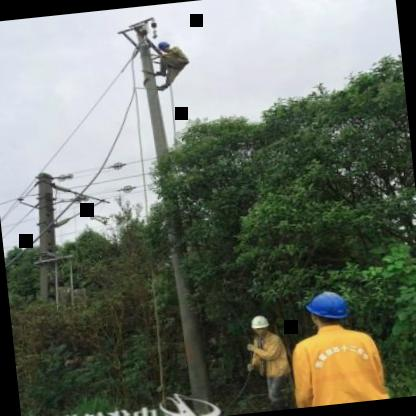helmet: (300, 286, 354, 330), (244, 312, 273, 339), (154, 38, 174, 56)
